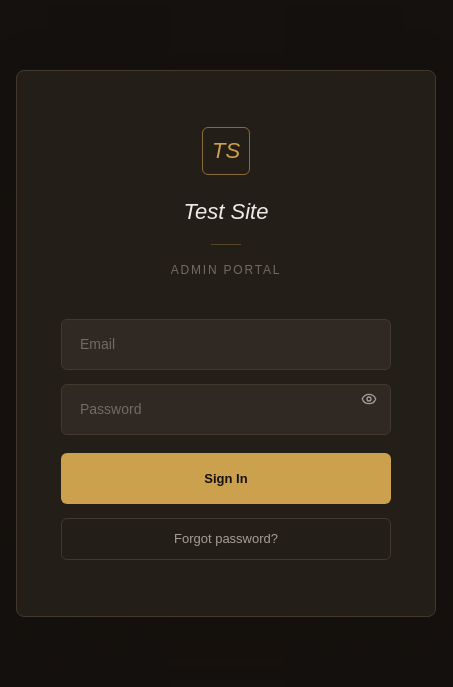
forgot password › sends a recovery email that returns to the reset page
This screenshot has width=453, height=687.
Click the button "Forgot password?": (226, 539) [61, 518, 391, 560]
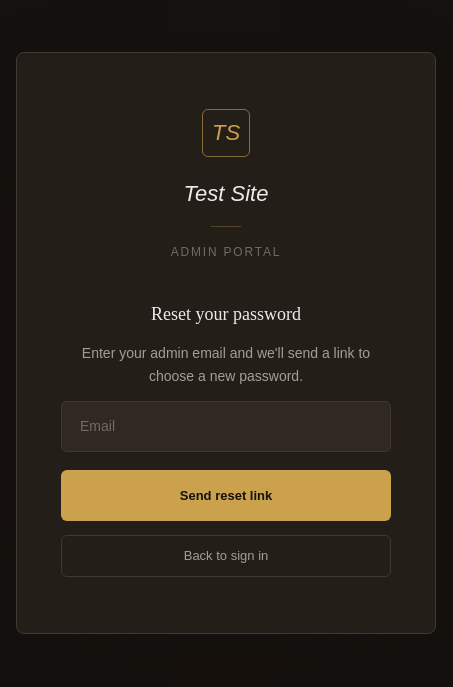
In the field labelled "Email": (226, 426) [61, 401, 391, 452], type "brian@example.com"
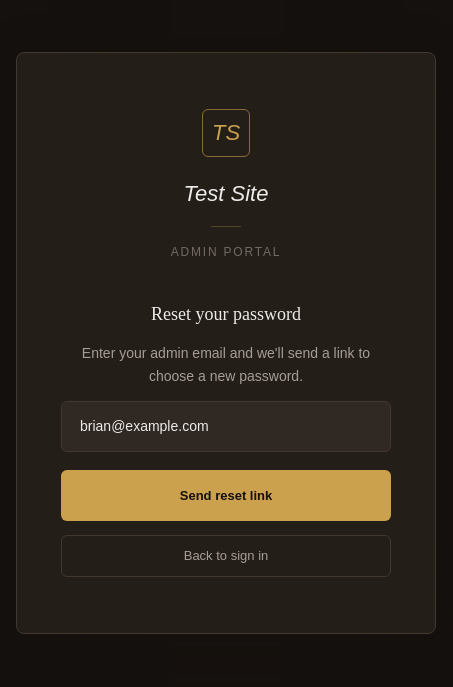
Click the button "Send reset link": (226, 496) [61, 470, 391, 521]
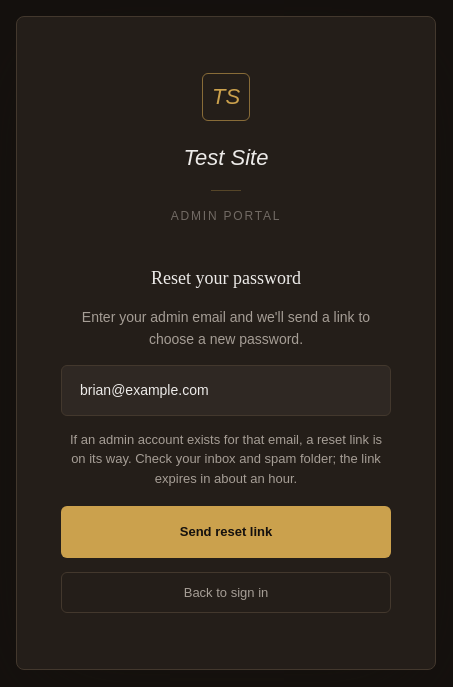
Now the message shows "If an admin account exists for that email, a reset link is on its way", box [70, 432, 382, 486]
